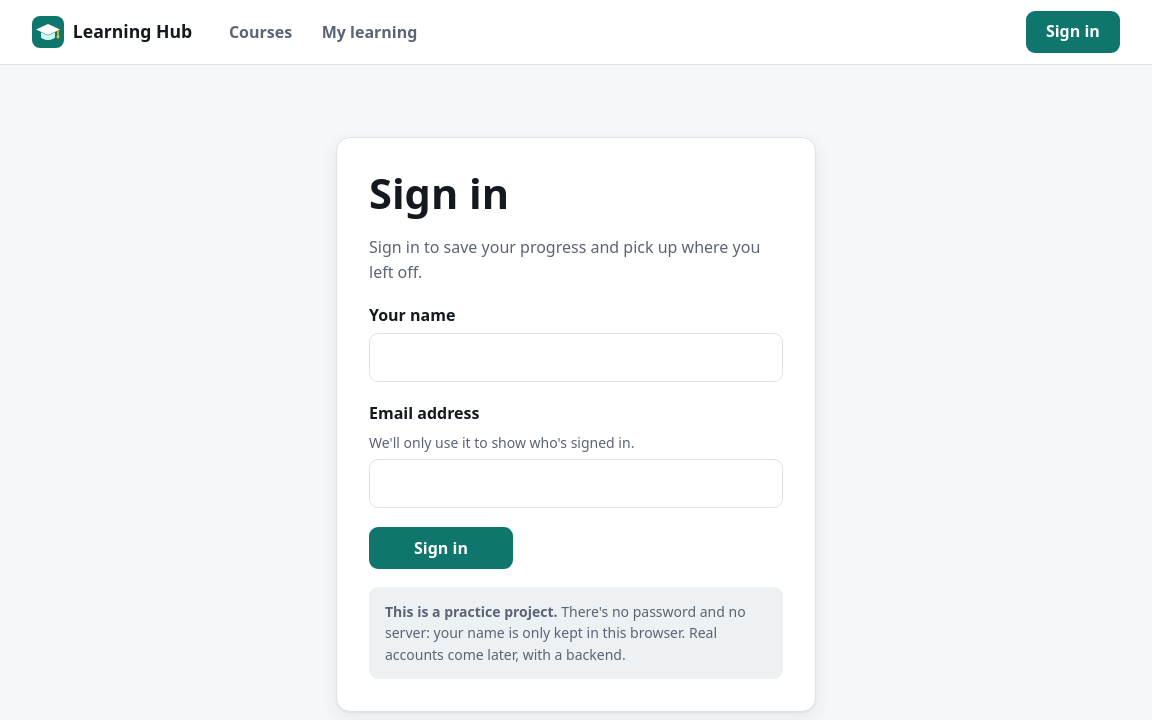
it: signing in › explains every problem when the form is empty
Click the button "Sign in" at (441, 548), box [369,527,513,569]
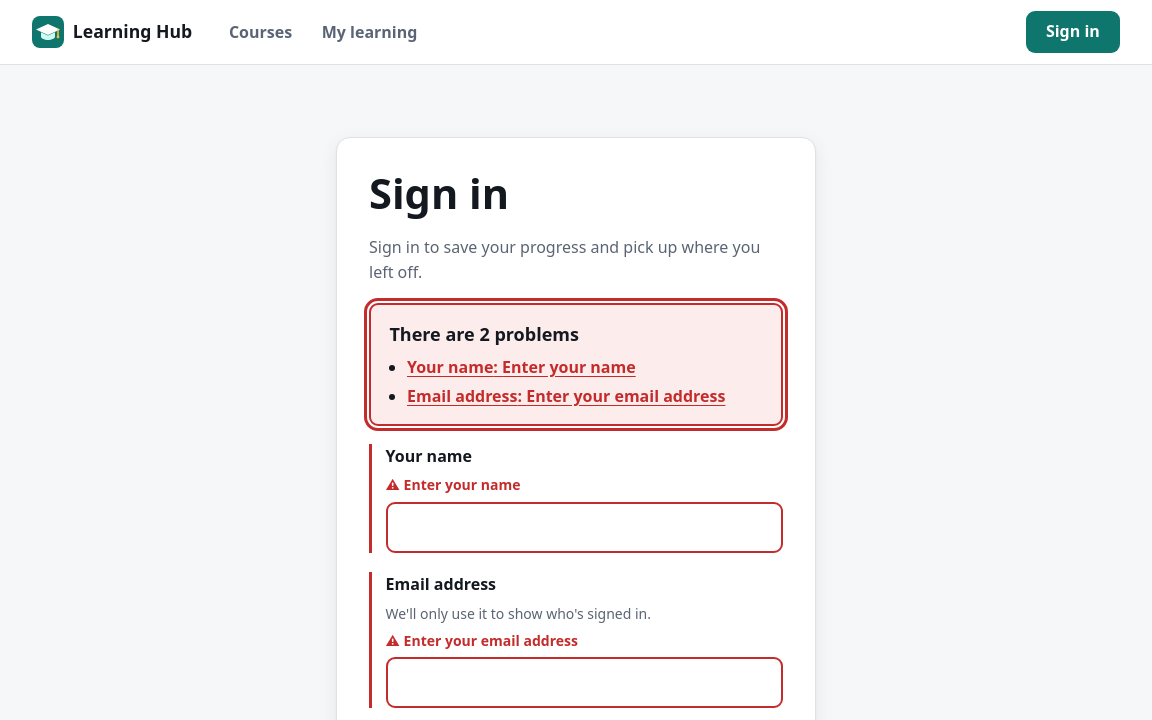
Expected: the message shows "There are 2 problems", [369,303,783,426]
